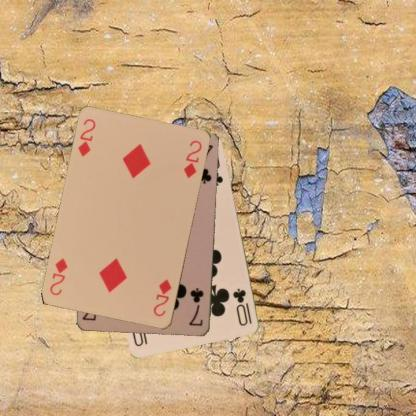10c: (231, 286, 254, 328)
2d: (150, 277, 174, 318), (75, 116, 97, 158)
7c: (186, 286, 206, 328)
